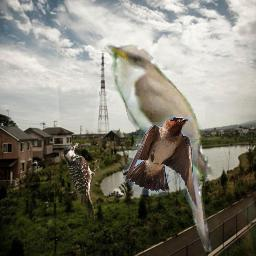Cuckoo: (100, 39, 216, 255)
Swallow: (123, 116, 198, 210)
Woodpecker: (63, 143, 101, 219)
